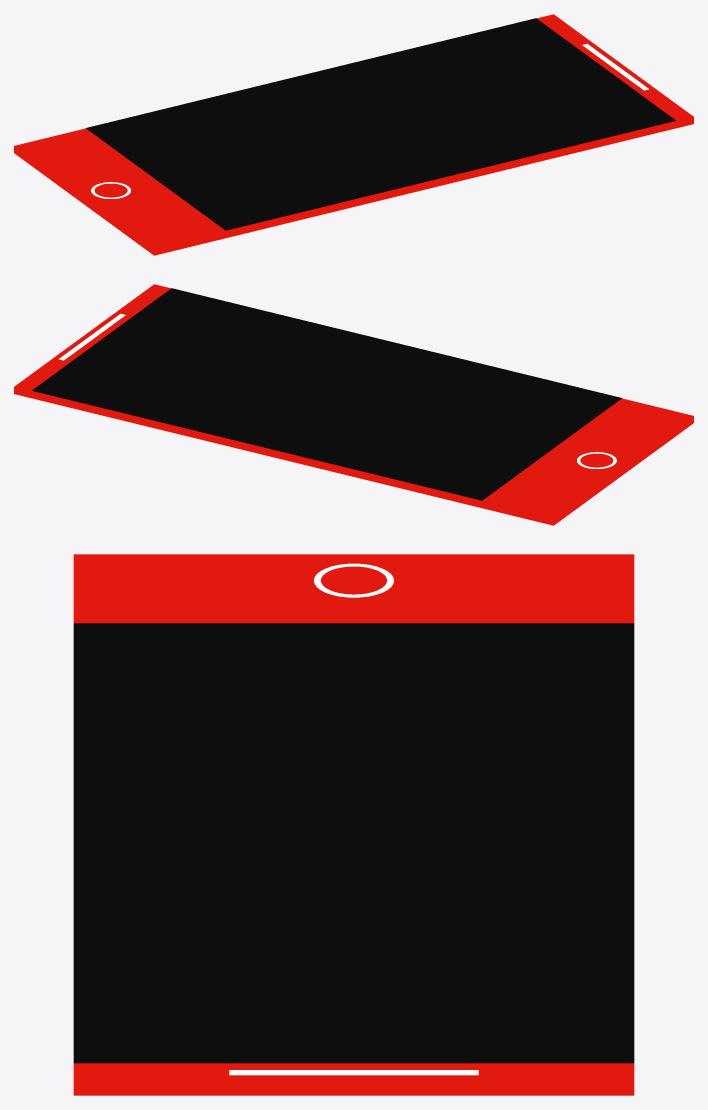
Rendered from phone.glb.
3 renders of one model, top to bottom at view 1: azimuth 30°, elevation 25°; view 2: azimuth 150°, elevation 25°; view 3: azimuth 270°, elevation 25°, orthographic. The views are drawn at different scales.
Parts seen in each view (by area): view 1: MobileScreen, Cube; view 2: MobileScreen, Cube; view 3: MobileScreen, Cube, Plane.001, Cylinder.
Part boxes in pixels (<box>): MobileScreen: <box>86,18,675,230</box>; Cube: <box>14,14,693,255</box>; MobileScreen: <box>32,288,621,500</box>; Cube: <box>14,284,693,525</box>; MobileScreen: <box>73,623,634,1063</box>; Cube: <box>73,554,634,1095</box>; Plane.001: <box>229,1070,478,1075</box>; Cylinder: <box>313,563,394,597</box>.
Bounding box in the file's own units: 0.2 × 0.00267 × 0.09.
